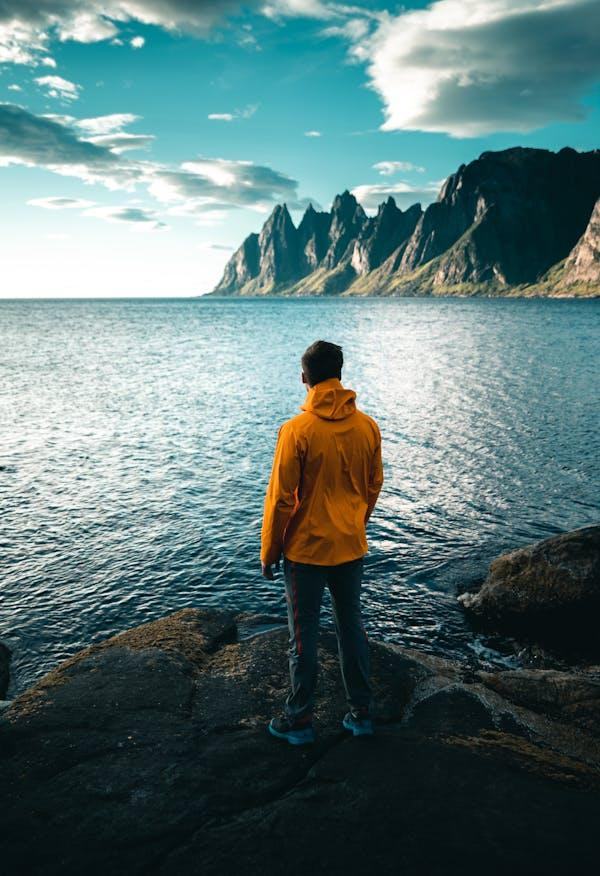NoHuman: (0, 0, 600, 874)
